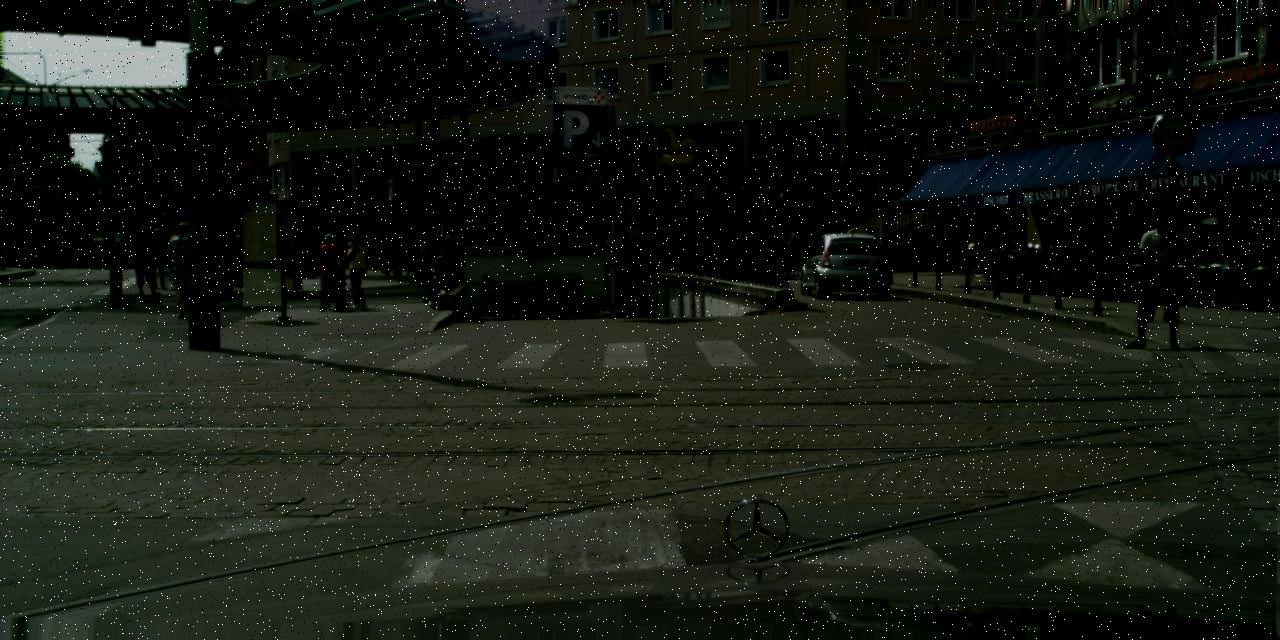ped: (1133, 210, 1189, 348), (164, 222, 202, 318), (312, 232, 344, 310), (341, 233, 372, 311), (130, 227, 158, 295), (146, 228, 172, 288), (336, 244, 361, 304), (228, 233, 248, 284), (784, 230, 802, 276), (414, 232, 432, 276), (442, 235, 456, 271), (607, 234, 621, 268), (18, 241, 28, 268), (308, 238, 318, 263), (0, 243, 8, 269), (94, 257, 105, 269), (79, 251, 85, 267)
